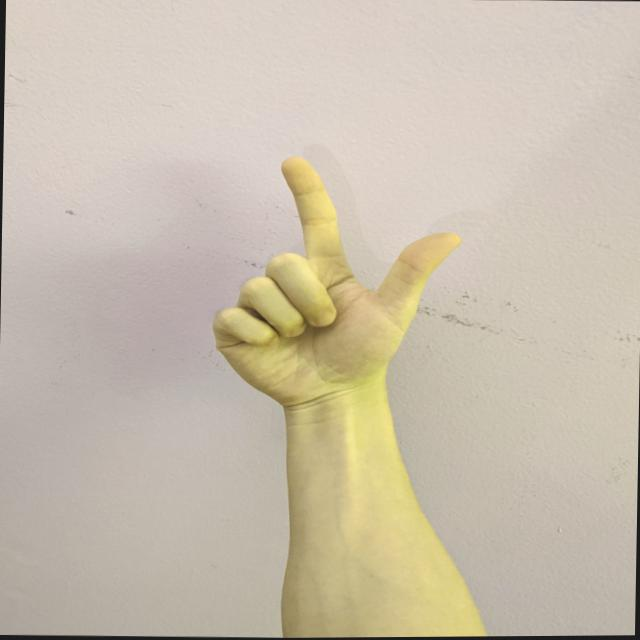L: (203, 149, 473, 412)
